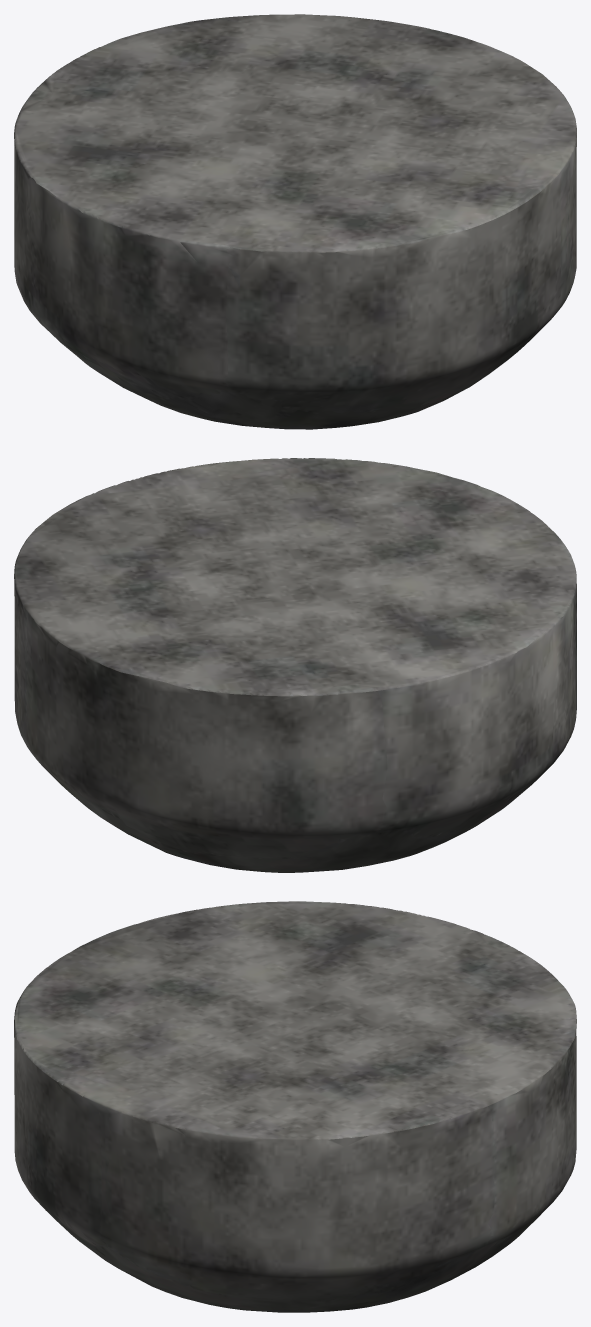
Rendered from plain-granite-balcony-v001.glb.
The picture shows the model from 3 angles, top to bottom: view 1: azimuth 30°, elevation 25°; view 2: azimuth 150°, elevation 25°; view 3: azimuth 270°, elevation 25°; orthographic projection.
Parts seen in each view (by area): view 1: plain-granite-balcony; view 2: plain-granite-balcony; view 3: plain-granite-balcony.
Part boxes in pixels (x1,y1,x2,y2): plain-granite-balcony: [14, 14, 576, 429]; plain-granite-balcony: [14, 458, 576, 872]; plain-granite-balcony: [14, 901, 576, 1312].
Size of the model in its own units: 2.76 by 1.24 by 2.75.
Materials: 1 (1 with a texture image).
